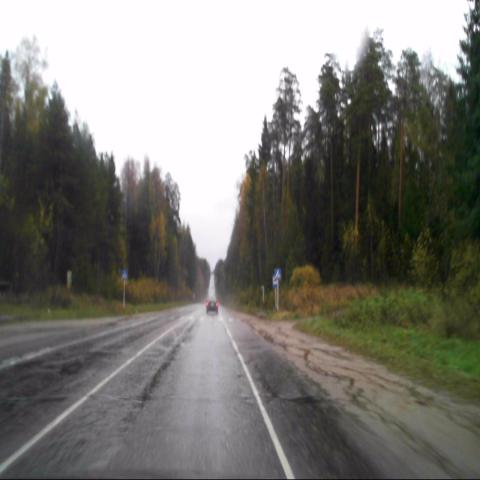5_16: (271, 274, 278, 287)
5_19_1: (274, 267, 282, 280), (121, 268, 128, 281)
